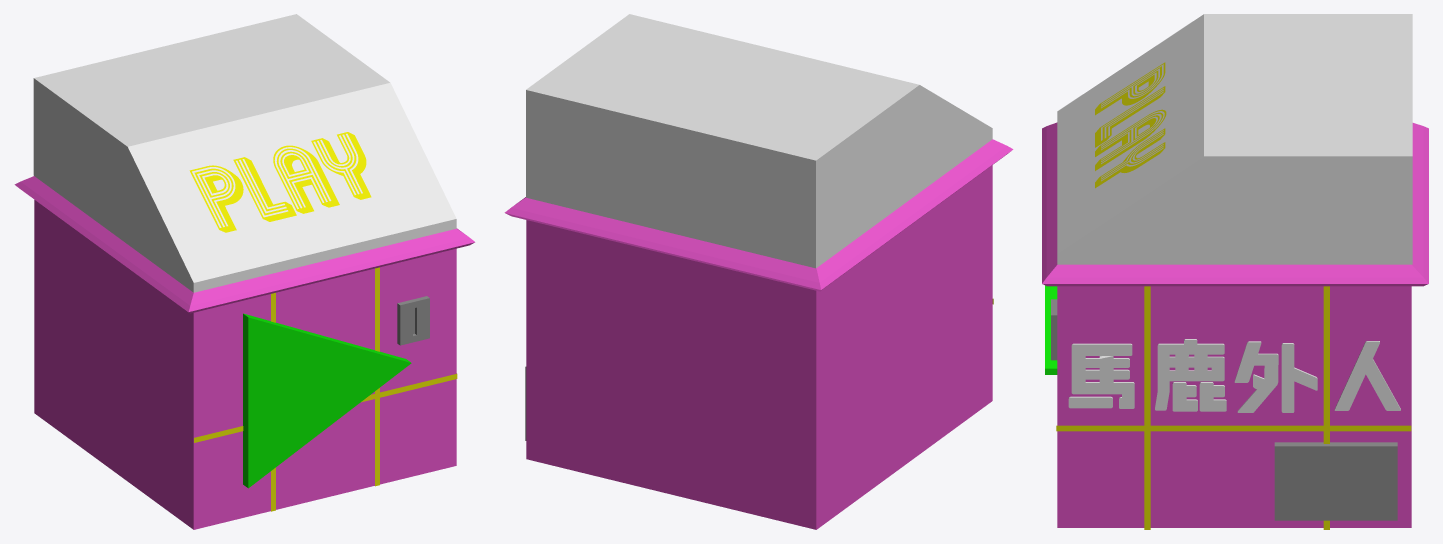
File: JukeBox.fbx
3 renders of one model, left to right at view 1: azimuth 30°, elevation 25°; view 2: azimuth 150°, elevation 25°; view 3: azimuth 270°, elevation 25°, orthographic. The views are drawn at different scales.
Parts seen in each view (by area): view 1: Cube, Plane, Text.001, Plane.002, Plane.006; view 2: Cube; view 3: Cube, Text, Text.001, Plane.005, Plane.003, Plane.004, Plane.
Part boxes in pixels (bbox=[...]): Cube: bbox=[14, 14, 475, 529]; Plane: bbox=[243, 313, 411, 488]; Text.001: bbox=[189, 132, 371, 232]; Plane.002: bbox=[375, 267, 379, 486]; Plane.006: bbox=[194, 374, 457, 442]; Cube: bbox=[504, 14, 1013, 529]; Cube: bbox=[1042, 14, 1428, 527]; Text: bbox=[1068, 339, 1400, 412]; Text.001: bbox=[1095, 62, 1166, 188]; Plane.005: bbox=[1056, 425, 1411, 431]; Plane.003: bbox=[1144, 286, 1150, 529]; Plane.004: bbox=[1323, 286, 1329, 529]; Plane: bbox=[1045, 285, 1057, 374].
Bounding box in the file's own units: 218 × 244 × 230.
